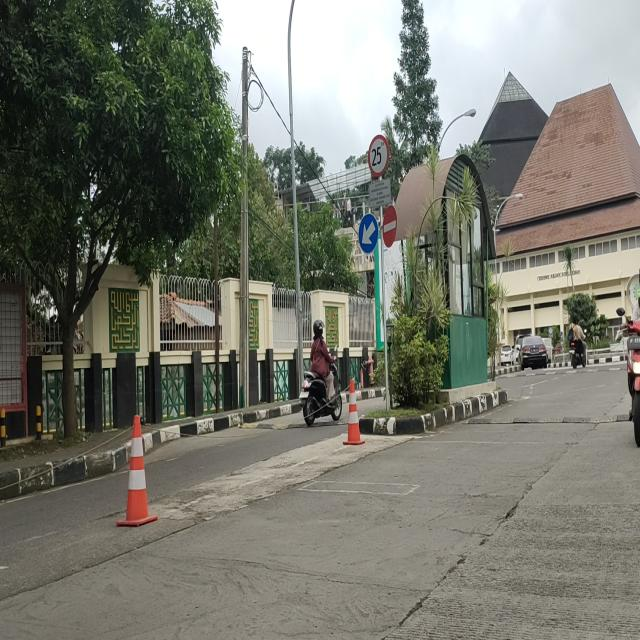helmet: (314, 320, 326, 338)
no-helmet: (572, 316, 578, 325)
